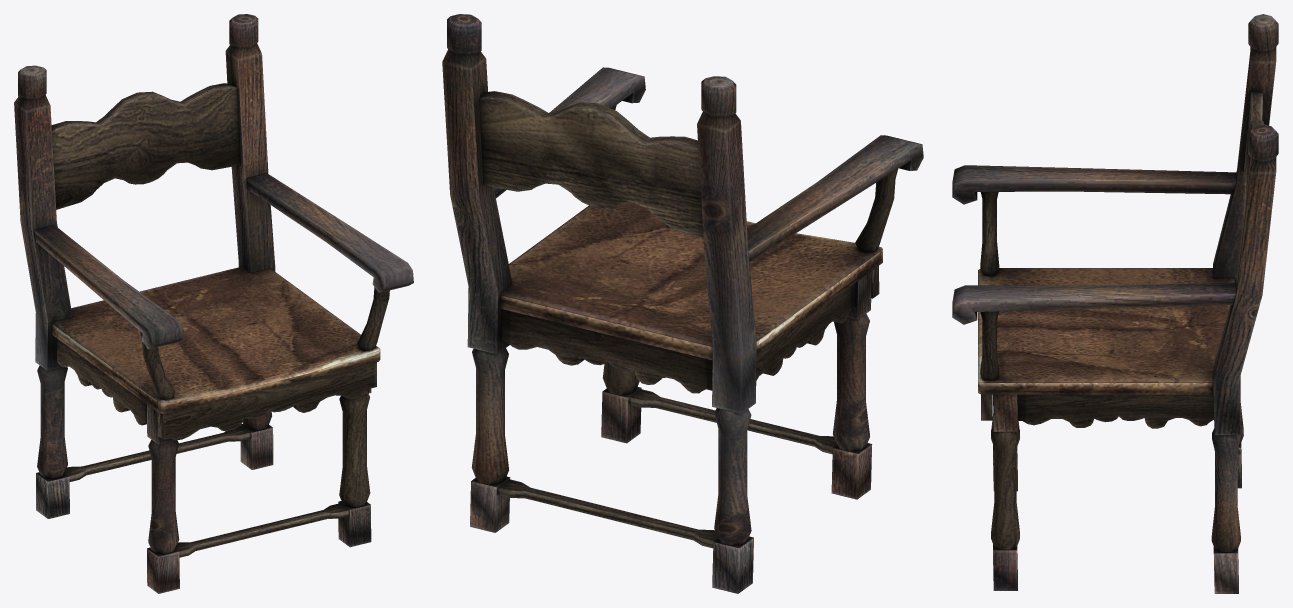
Rendered from antique_chair.obj.
3 views of the same model, side by side, from view 1: azimuth 30°, elevation 25°; view 2: azimuth 150°, elevation 25°; view 3: azimuth 270°, elevation 25° (orthographic). The views are drawn at different scales.
Visible parts, largest first — view 1: Model001_5_Material95_1.0_0.0_0.0; view 2: Model001_5_Material95_1.0_0.0_0.0; view 3: Model001_5_Material95_1.0_0.0_0.0.
Part boxes in pixels (x1,y1,x2,y2): Model001_5_Material95_1.0_0.0_0.0: (14,14,413,593); Model001_5_Material95_1.0_0.0_0.0: (442,14,923,593); Model001_5_Material95_1.0_0.0_0.0: (952,14,1278,593).
Size of the model in its own units: 0.6241 by 0.9872 by 0.6341.
